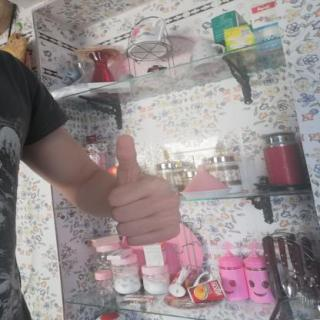ALIF: (82, 123, 196, 255)
